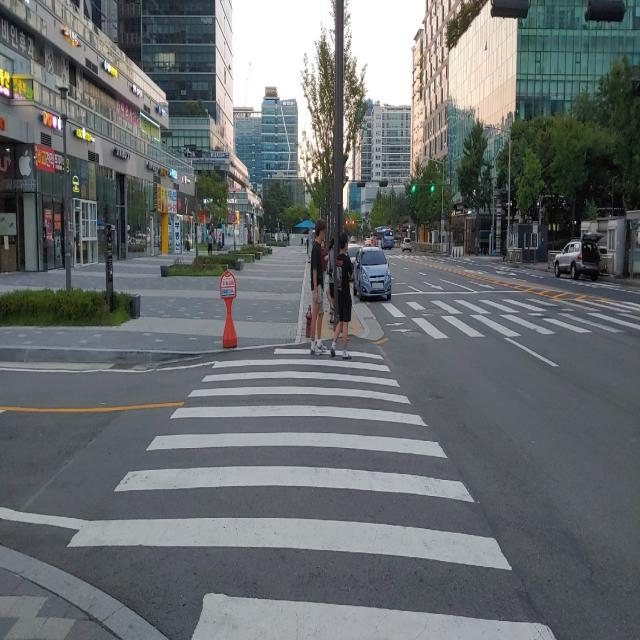횡단보도: (67, 348, 555, 640), (378, 299, 640, 340)
